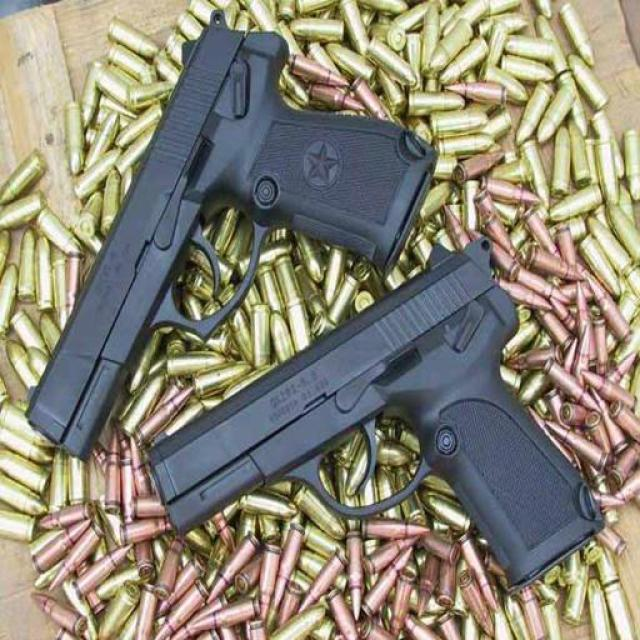pistol: (19, 6, 440, 465), (146, 236, 602, 577)
